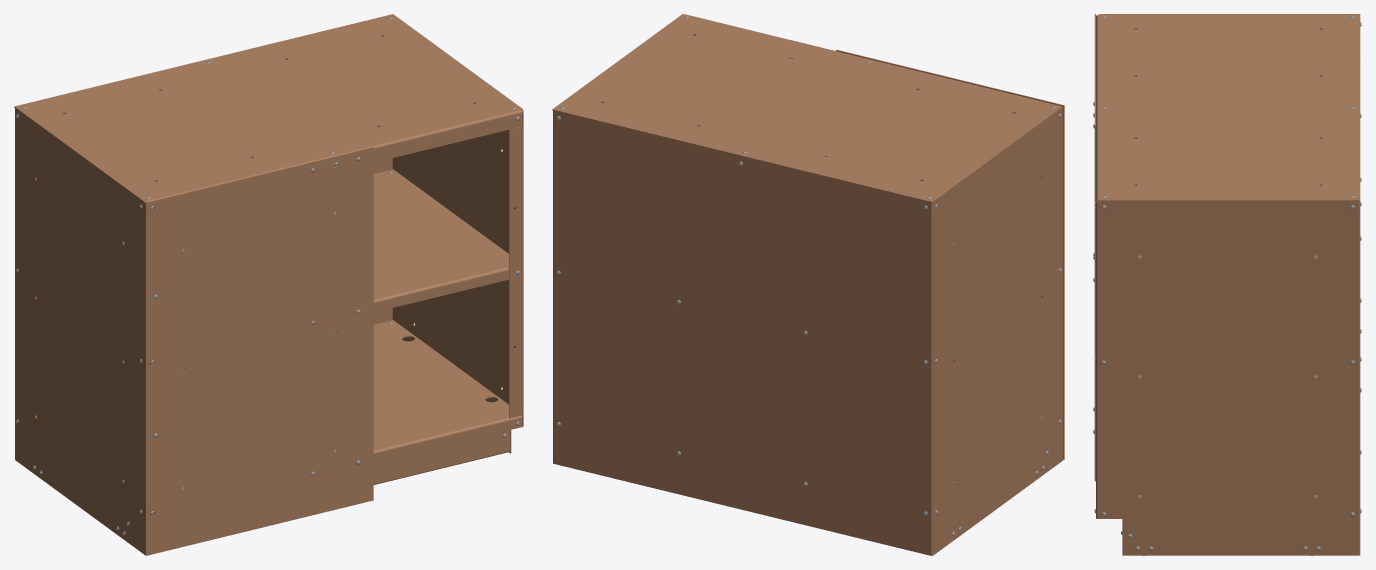
The model's file is hornbank1000V.glb.
3 renders of one model, left to right at view 1: azimuth 30°, elevation 25°; view 2: azimuth 150°, elevation 25°; view 3: azimuth 270°, elevation 25°, orthographic.
Parts seen in each view (by area): view 1: corten; view 2: corten; view 3: corten, stal.
Boxes of the visible parts, left/top/right/bottom form: corten: left=14, top=14, right=523, bottom=555; corten: left=552, top=14, right=1064, bottom=555; corten: left=1094, top=14, right=1360, bottom=555; stal: left=1093, top=15, right=1361, bottom=550.
Size of the model in its own units: 1.01 by 0.895 by 0.6089.
